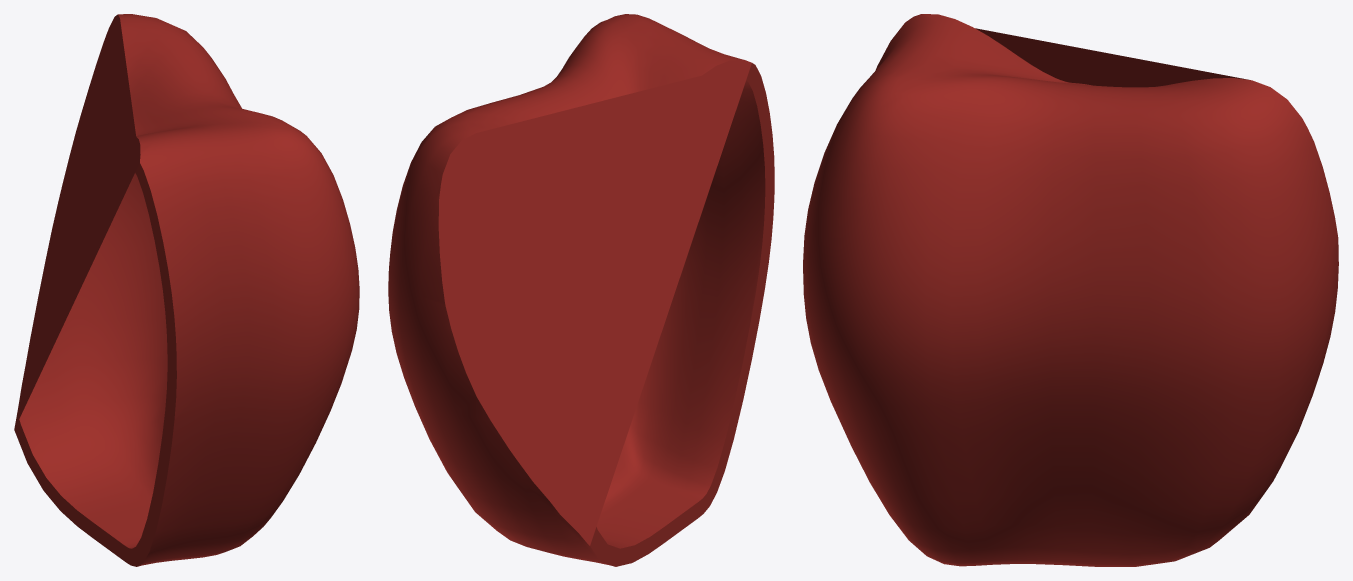
Rendered from Pepper_Slice_03.fbx.
3 views of the same model, side by side, from view 1: azimuth 30°, elevation 25°; view 2: azimuth 150°, elevation 25°; view 3: azimuth 270°, elevation 25° (orthographic). The views are drawn at different scales.
Parts seen in each view (by area): view 1: Pepper; view 2: Pepper; view 3: Pepper.
Part boxes in pixels (box(x1,y1,x2,y2)): Pepper: box(14, 14, 359, 566); Pepper: box(388, 14, 774, 566); Pepper: box(803, 14, 1338, 566).
Size of the model in its own units: 1956 by 3744 by 3583.
